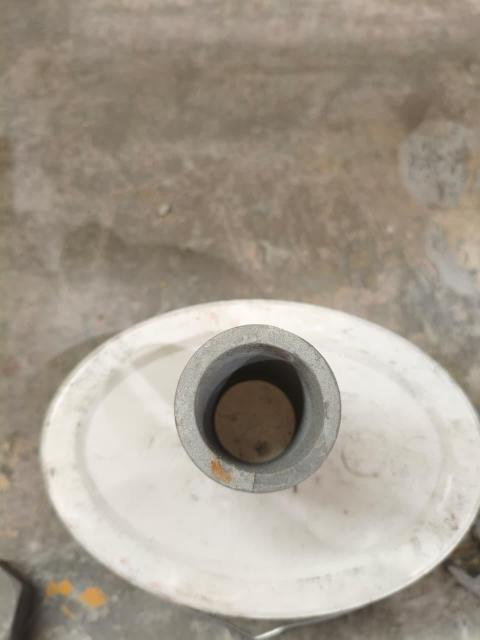Metal: (172, 324, 343, 494)
